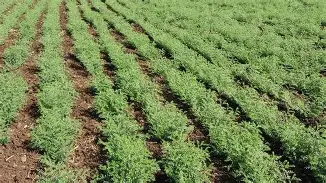crops: (0, 0, 322, 179), (152, 39, 237, 102), (137, 0, 244, 49), (232, 3, 326, 54), (79, 0, 155, 59), (29, 118, 98, 180), (30, 3, 76, 94), (264, 114, 326, 179), (88, 84, 148, 138), (213, 79, 277, 129), (156, 131, 212, 181), (209, 122, 263, 167), (138, 91, 187, 140), (272, 79, 323, 125), (0, 65, 29, 135), (242, 46, 297, 78), (2, 44, 29, 67), (187, 45, 215, 65), (231, 71, 257, 89), (26, 133, 51, 151), (99, 138, 119, 160), (228, 51, 249, 64), (38, 95, 54, 109), (92, 171, 113, 181), (311, 35, 324, 50), (313, 53, 326, 66), (183, 124, 195, 138), (285, 170, 299, 181), (175, 168, 185, 183), (259, 92, 271, 103), (257, 51, 271, 59), (233, 16, 247, 23), (261, 18, 275, 25), (217, 3, 231, 9)
